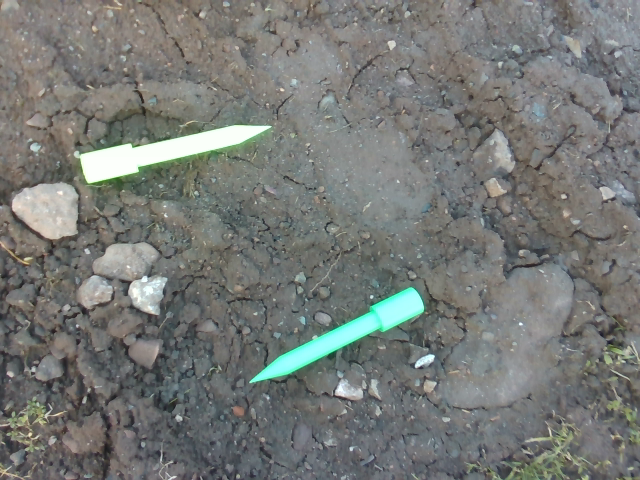Probe: (245, 281, 429, 394), (74, 114, 280, 190)
